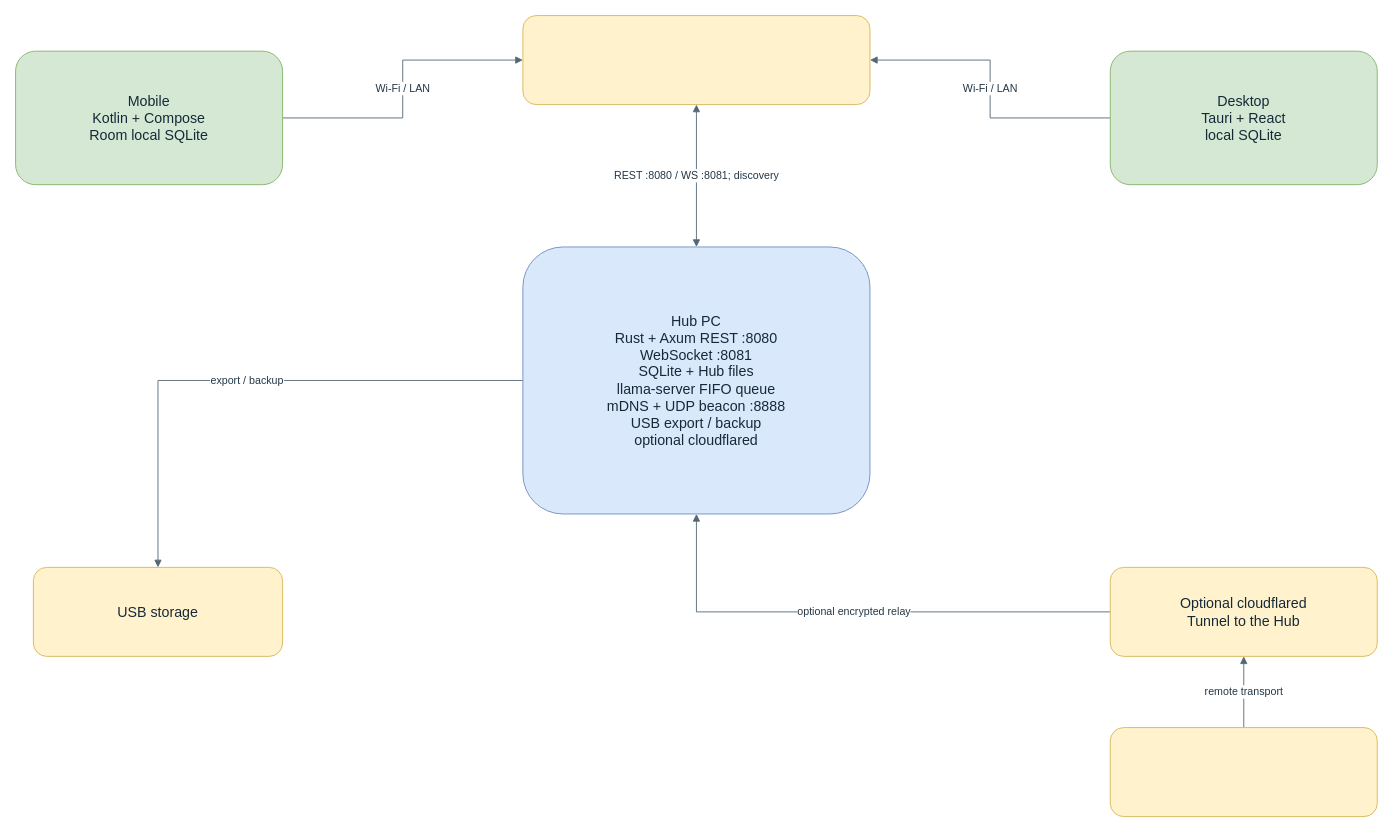
Some shapes in this 1393 by 832 pixel diagram are drawn without their labels. Here are the shapes that lost their labels. From the top down, the centre of each, then its label:
At (696,60): "Classroom Wi-Fi router / LAN".
At (1243,772): "Remote client (saved Hub URL)".
